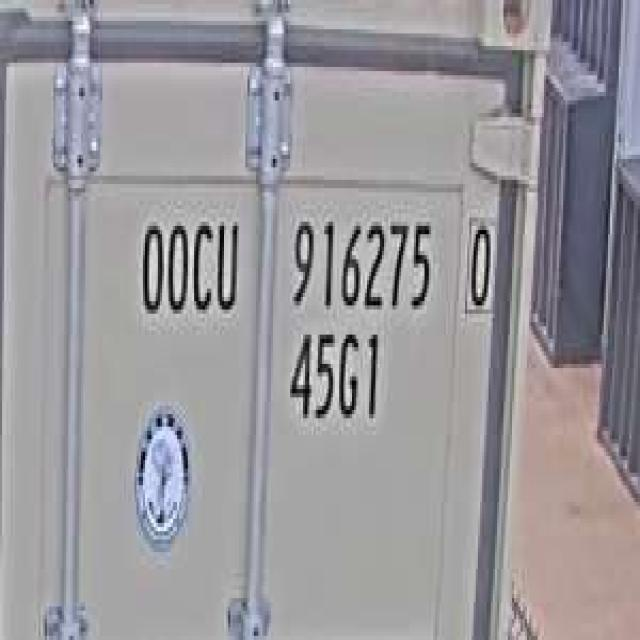dv: (460, 205, 500, 324)
owner: (134, 205, 241, 326)
serial: (284, 205, 437, 322)
size: (282, 322, 386, 431)
